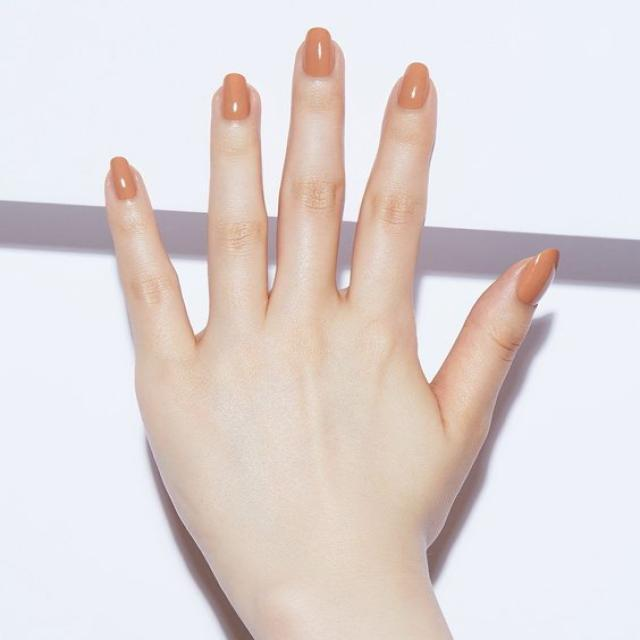Fingernail: (517, 249, 560, 307), (303, 27, 333, 77), (398, 63, 429, 109), (221, 74, 250, 119), (112, 157, 137, 199)
